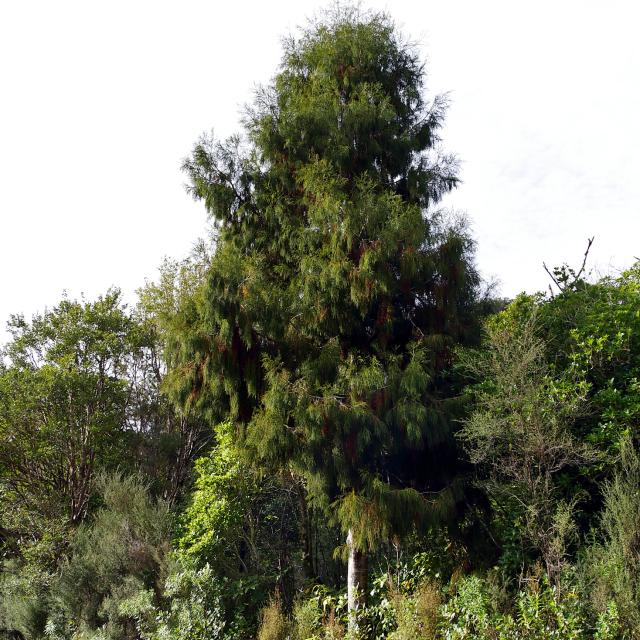Rimu: (262, 20, 431, 627)
